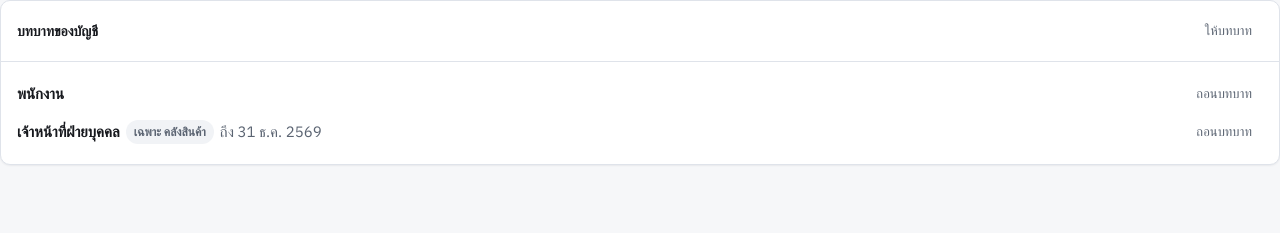
Scenario: Account roles on the employee page (CW-079) › refreshes the signed-in user after changing their own roles
Click the button "ถอนบทบาท" in the row of "เจ้าหน้าที่ฝ่ายบุคคล" at (1224, 132), box [1185,116,1263,148]
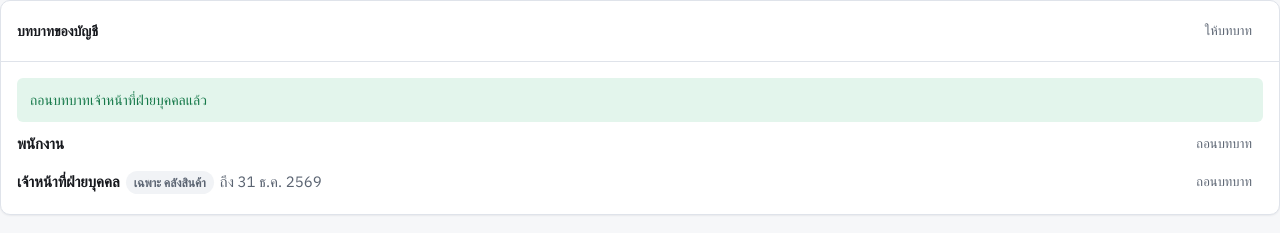
Result: the message reads "ถอนบทบาทเจ้าหน้าที่ฝ่ายบุคคลแล้ว" at [30,91,207,109]
